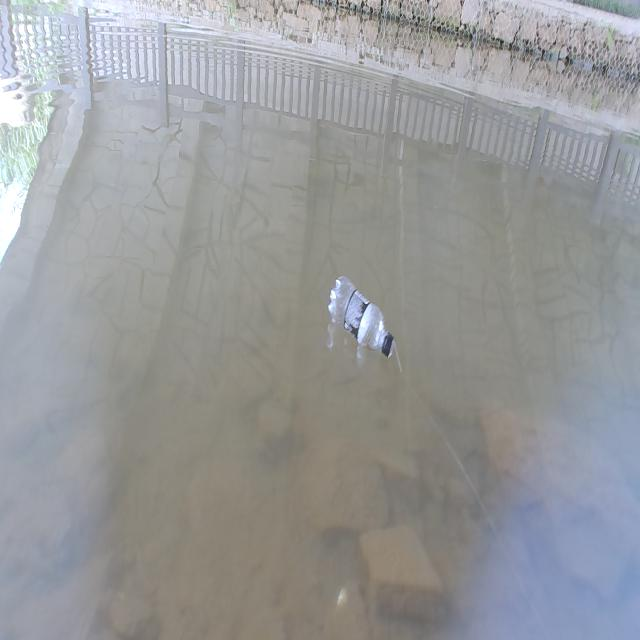bottle: (311, 248, 407, 371)
